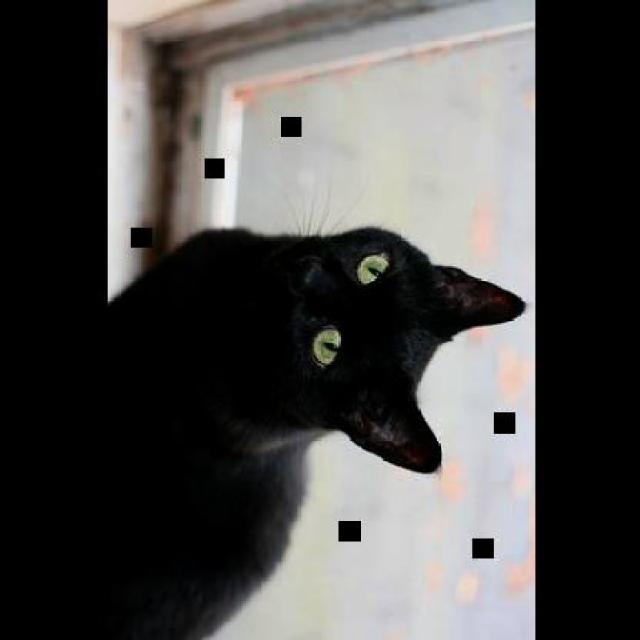unauthorized: (0, 211, 526, 638)
